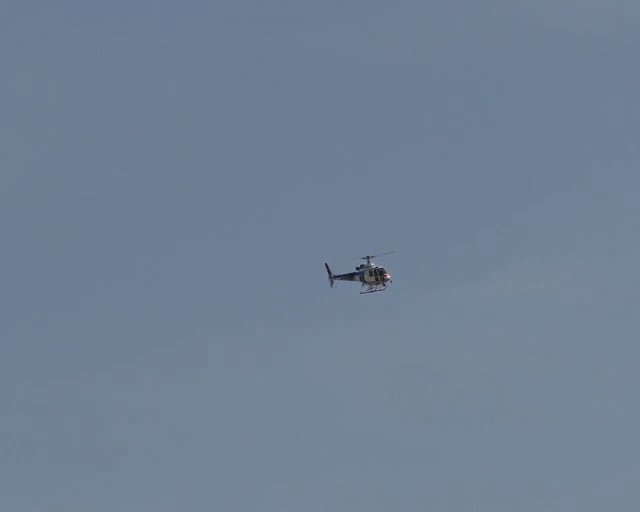HELICOPTER: (324, 250, 395, 294)
